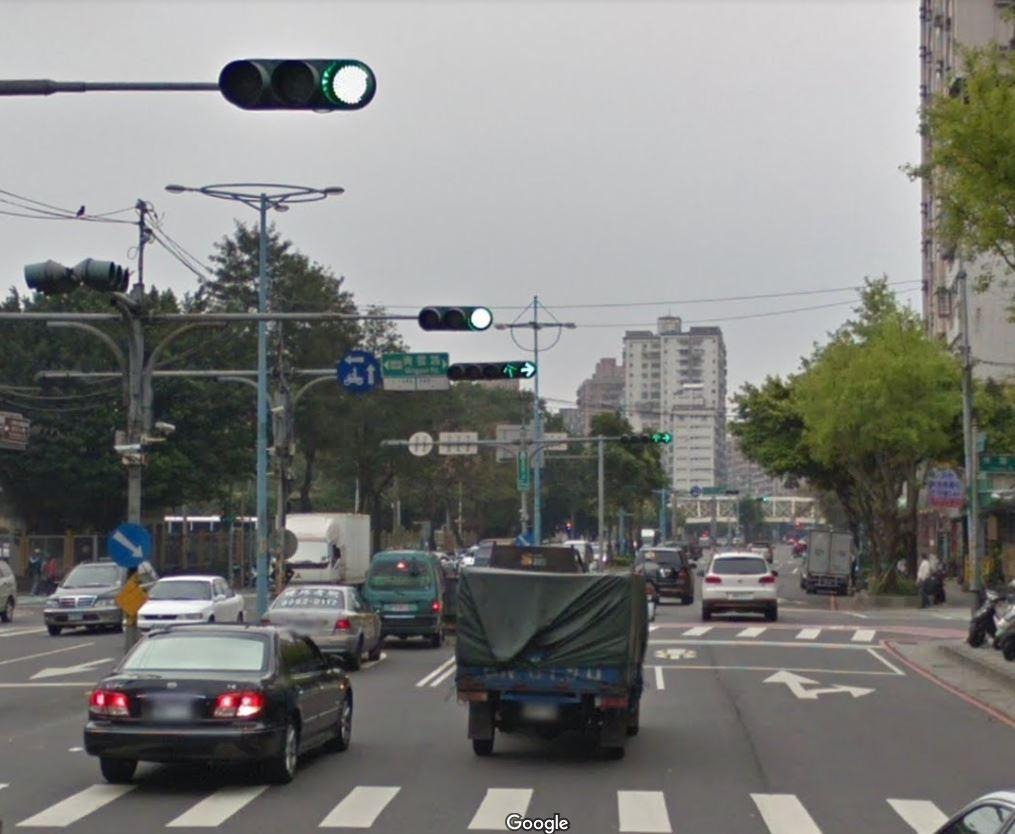green_traffic_light: (217, 54, 377, 121), (412, 297, 500, 341)
